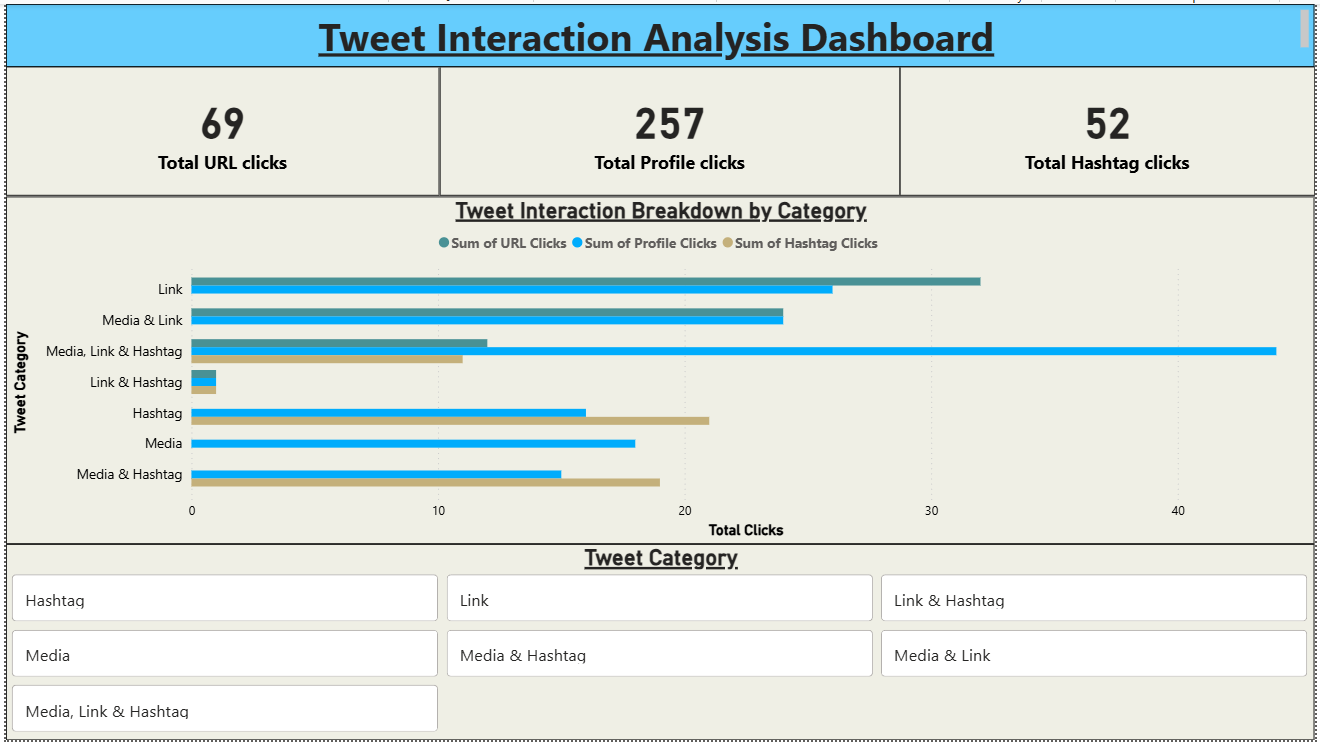

This screenshot's page, from the dashboard's own definition file:
{"tool":"powerbi","page":{"name":"Page 1","canvas":[1280,720],"ordinal":0},"visuals":[{"type":"clusteredBarChart","title":"Tweet Interaction Breakdown by Category","fields":{"Category":["Task1_data.Tweet Category"],"Y":["Sum(Task1_data.url clicks)","Sum(Task1_data.user profile clicks)","Sum(Task1_data.hashtag clicks)"]},"box":[0,188,1280.3,340.3],"z":0},{"type":"card","fields":{"Values":["Sum(Task1_data.url clicks)"]},"box":[0,61.7,424,126.2],"z":1000},{"type":"card","fields":{"Values":["Sum(Task1_data.user profile clicks)"]},"box":[424,61.7,450.1,126.2],"z":2000},{"type":"card","fields":{"Values":["Sum(Task1_data.hashtag clicks)"]},"box":[874.1,61.7,406.2,126.2],"z":3000},{"type":"advancedSlicerVisual","fields":{"Values":["Task1_data.Tweet Category"]},"box":[0,528.3,1280.3,192.1],"z":4000},{"type":"textbox","box":[0,0,1280.3,61.7],"z":5000}]}

Visuals, with their boxes in screenshot pixels (x1, y1, x2, y2), scaled from the page's 1280x720 canvas onto the 1320x744 screenshot:
"Tweet Interaction Breakdown by Category" clusteredBarChart: {"left": 0, "top": 194, "right": 1319, "bottom": 546}
card - Sum(Task1_data.url clicks): {"left": 0, "top": 64, "right": 437, "bottom": 194}
card - Sum(Task1_data.user profile clicks): {"left": 437, "top": 64, "right": 901, "bottom": 194}
card - Sum(Task1_data.hashtag clicks): {"left": 901, "top": 64, "right": 1319, "bottom": 194}
advancedSlicerVisual - Task1_data.Tweet Category: {"left": 0, "top": 546, "right": 1319, "bottom": 743}
textbox: {"left": 0, "top": 0, "right": 1319, "bottom": 64}
